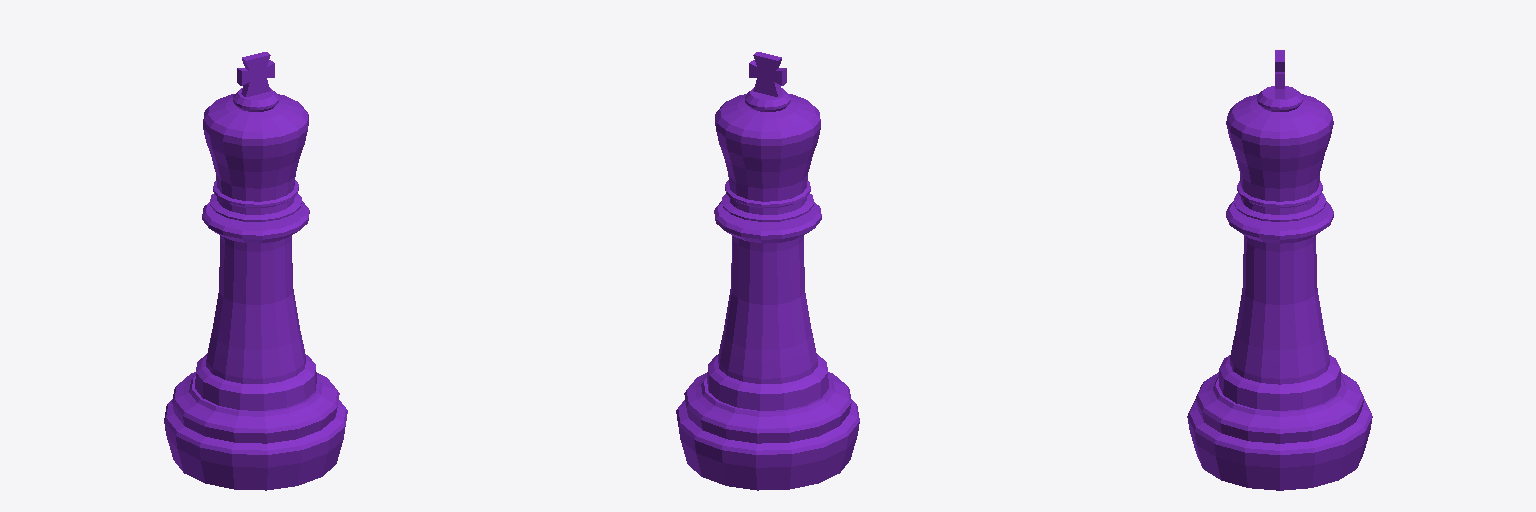
The model's file is king.obj.
The picture shows the model from 3 angles: view 1: azimuth 30°, elevation 25°; view 2: azimuth 150°, elevation 25°; view 3: azimuth 270°, elevation 25°; orthographic projection.
Visible parts, largest first — view 1: KING; view 2: KING; view 3: KING.
Part boxes in pixels (x1,y1,x2,y2): KING: (164,52,347,490); KING: (676,52,859,490); KING: (1187,50,1372,490).
Size of the model in its own units: 0.5802 by 1.38 by 0.5802.